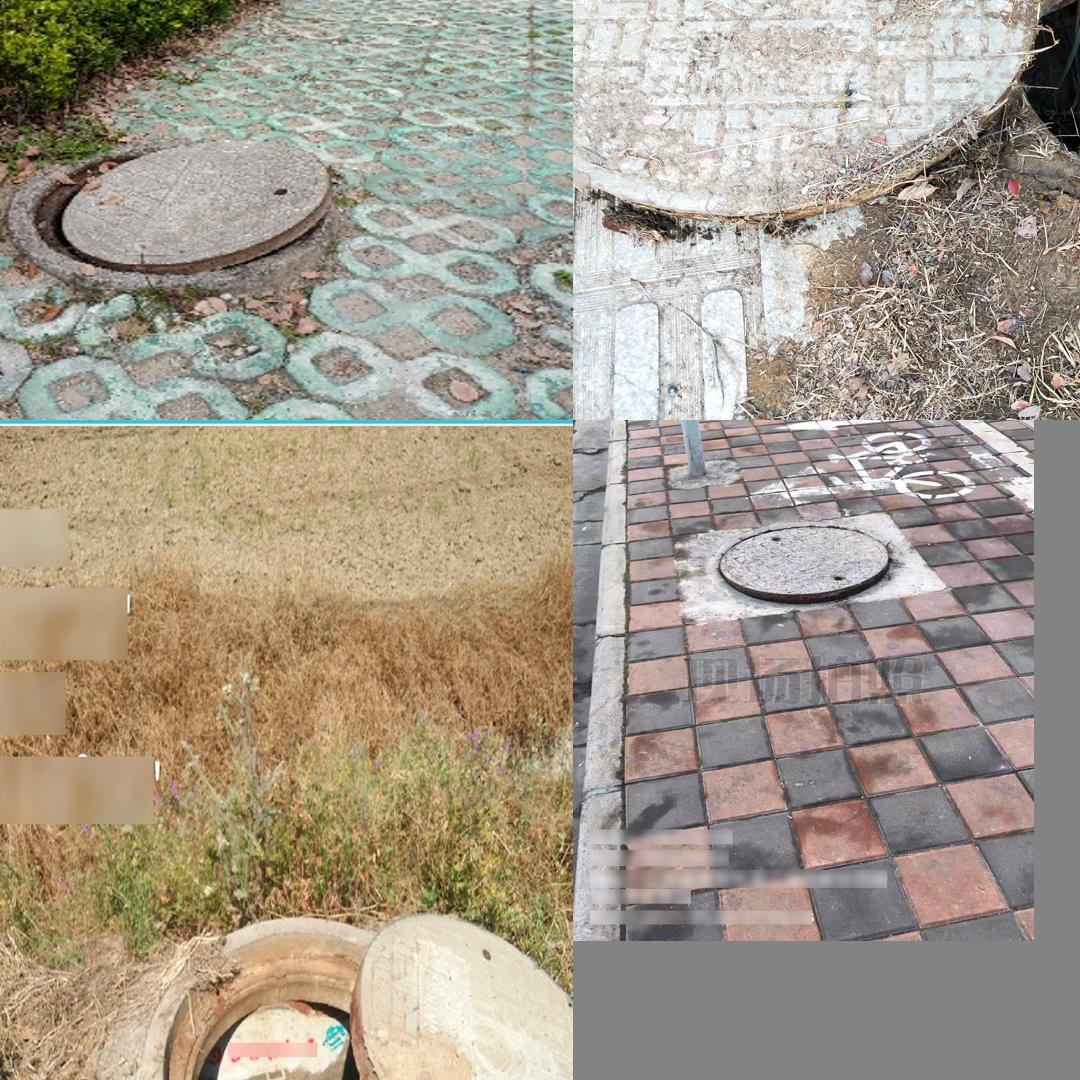uncovered: (575, 0, 1080, 237), (129, 866, 573, 1080), (6, 139, 352, 289), (709, 520, 899, 607)
